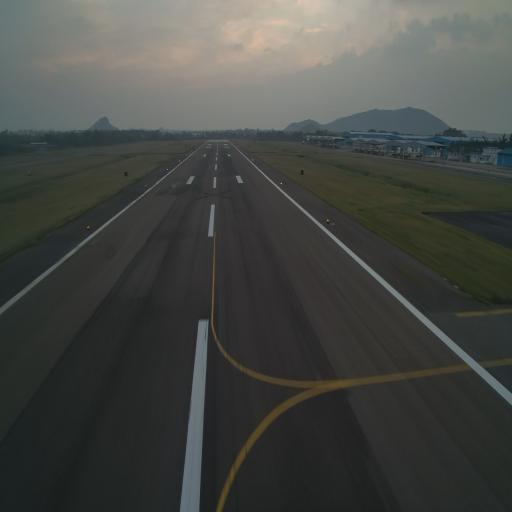on: (86, 224, 91, 231), (326, 218, 330, 225)
